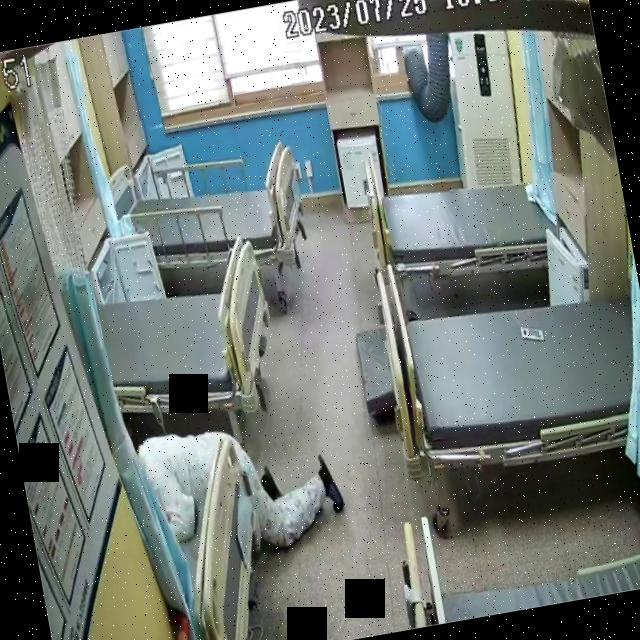bed: (397, 273, 640, 485), (89, 233, 288, 437), (106, 136, 309, 288), (364, 142, 563, 293)
fall: (140, 398, 354, 574)
patient: (140, 401, 353, 574)
